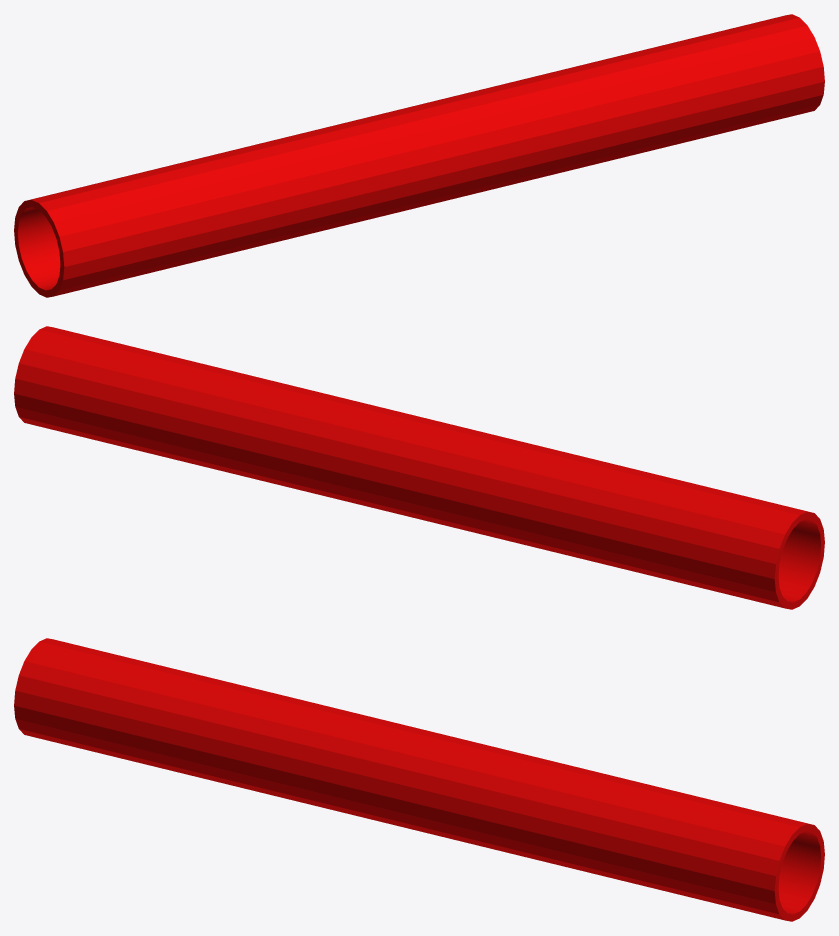
File: BloodTubeTest.fbx
3 views of the same model, one above another, from view 1: azimuth 30°, elevation 25°; view 2: azimuth 150°, elevation 25°; view 3: azimuth 330°, elevation 25° (orthographic).
Visible parts, largest first — view 1: pCylinder1; view 2: pCylinder1; view 3: pCylinder1.
Part boxes in pixels (bbox=[...]): pCylinder1: bbox=[14, 14, 824, 297]; pCylinder1: bbox=[14, 326, 824, 609]; pCylinder1: bbox=[14, 638, 824, 921].
Bounding box in the file's own units: 20.56 × 2.35 × 2.35.
